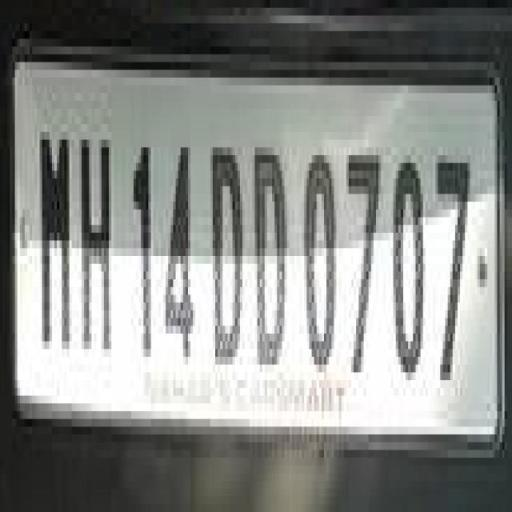number plate: (0, 54, 494, 442)
